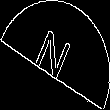N_SW: (32, 23, 78, 87)
